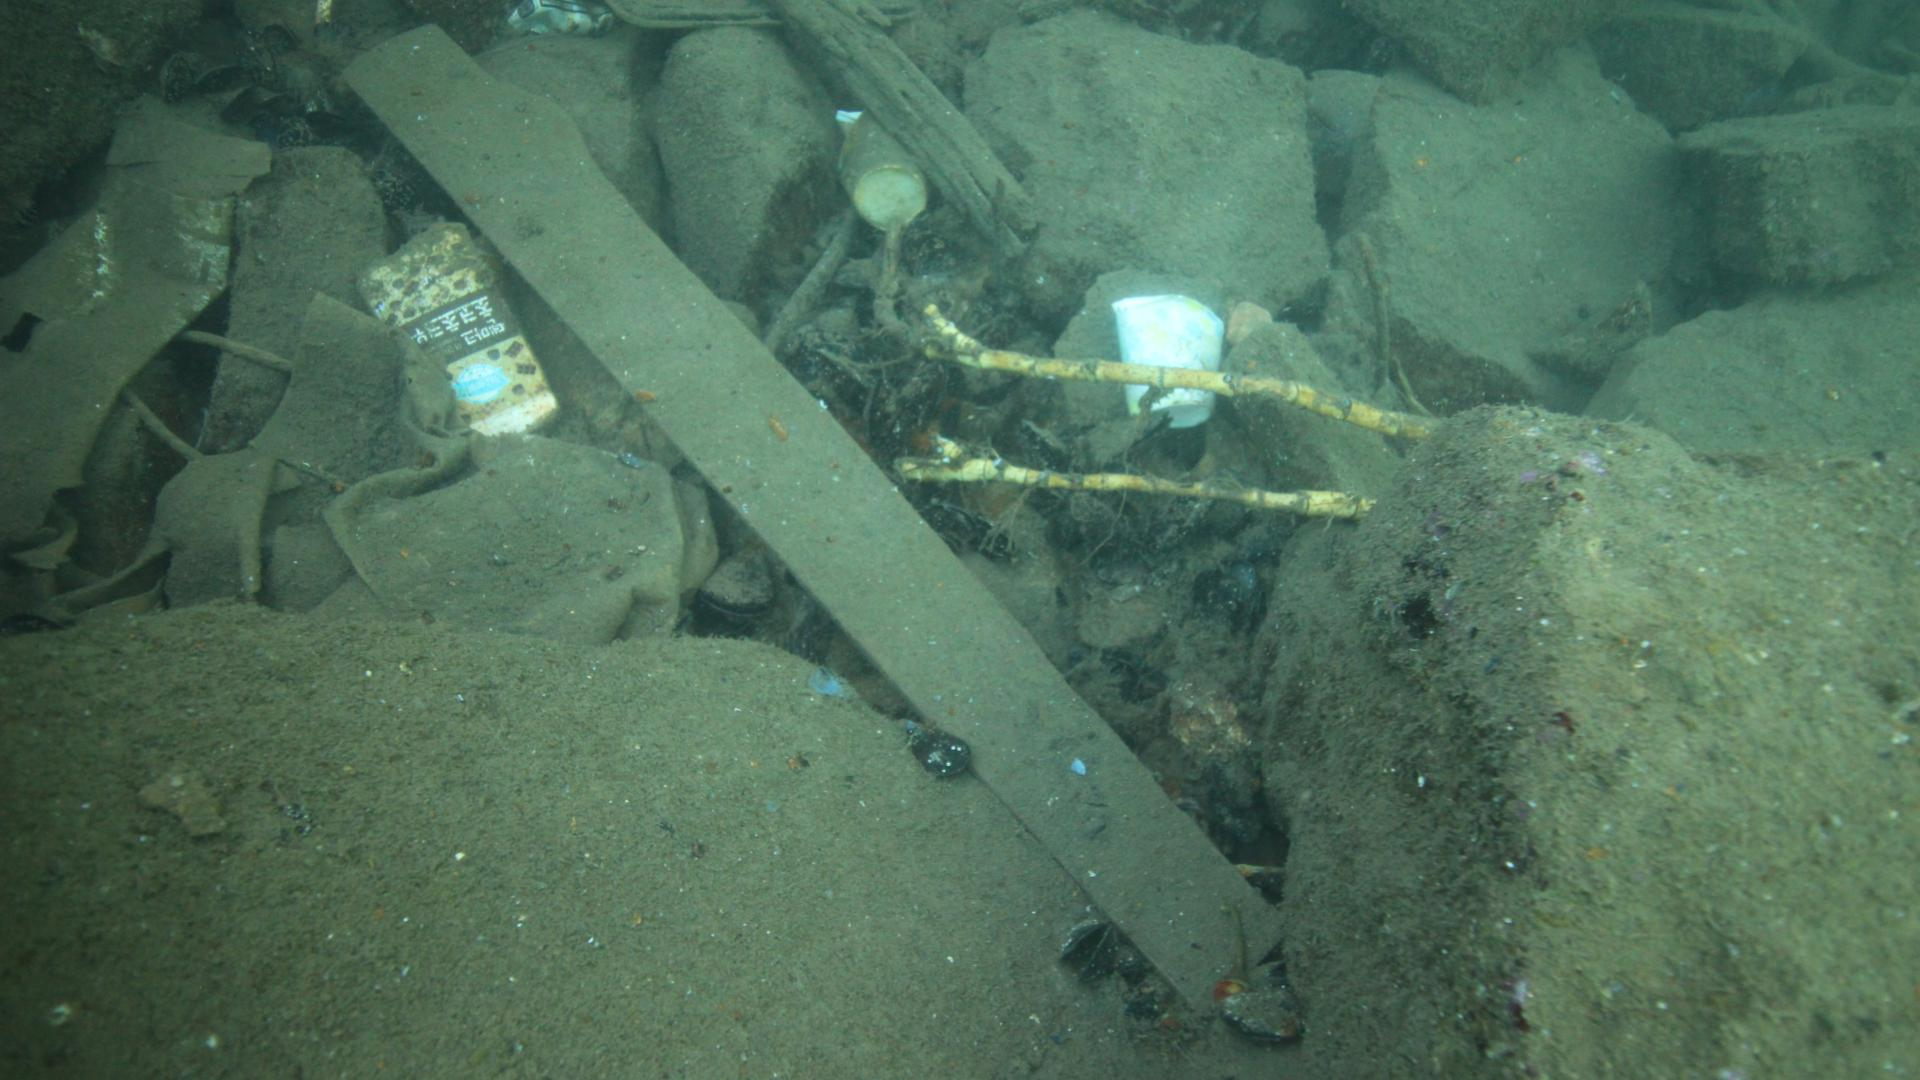wood: (338, 20, 1282, 1013)
